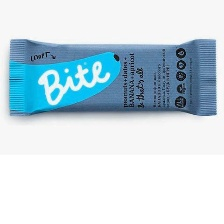snack: (0, 31, 224, 122)
